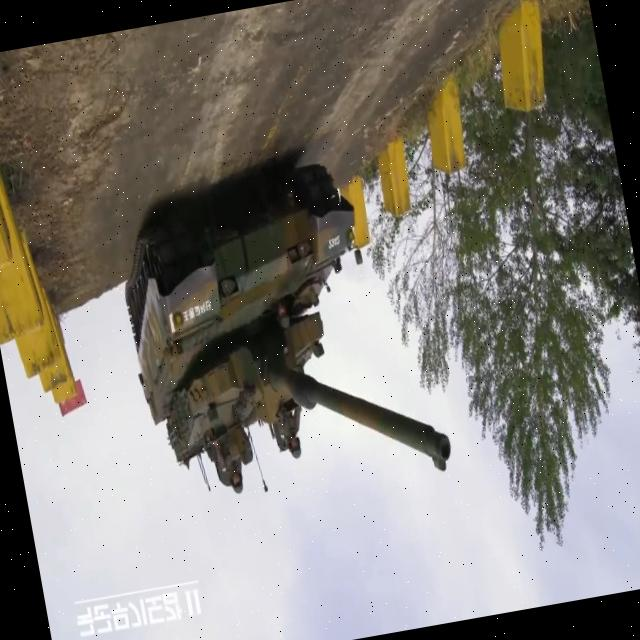korea tank: (105, 145, 458, 522)
